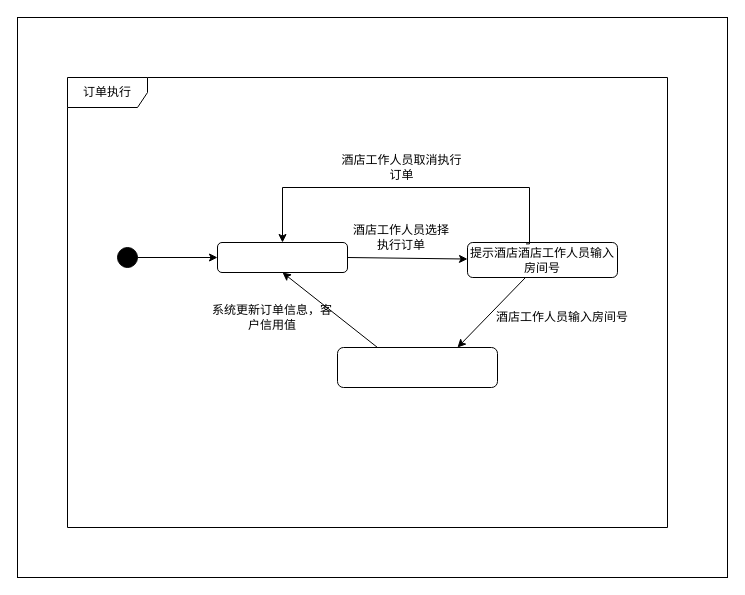
Image size: 745x595. Some labels were removed from this diagram. The shapes that lost their labels are listed below. From the top down, each one's centre as x and y in pixels, then its label:
At point (282, 257): "显示酒店订单列表".
At point (417, 367): "显示入住成功".
